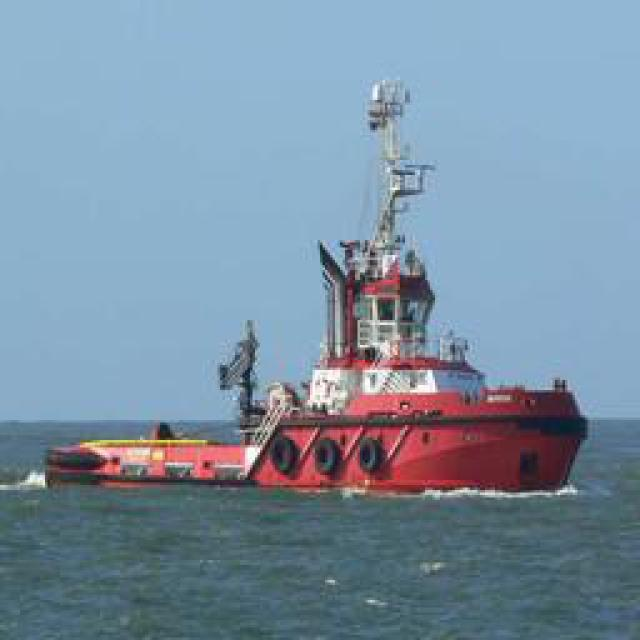Ship: (96, 79, 591, 489)
